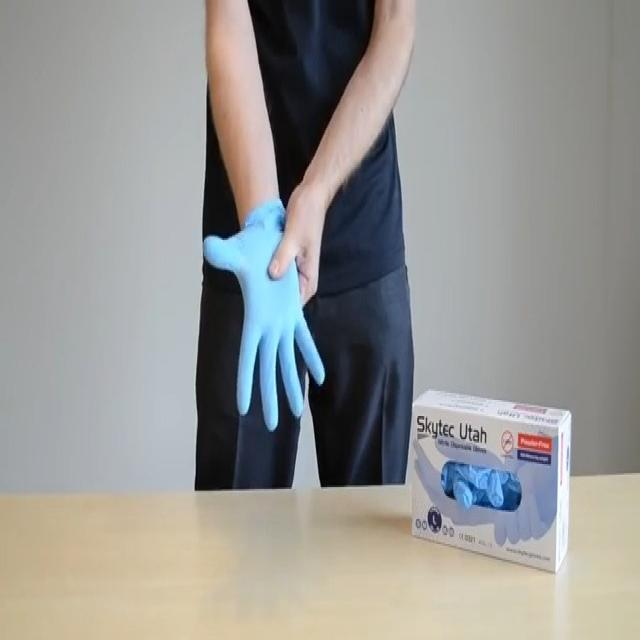Gloves: (203, 202, 330, 438)
